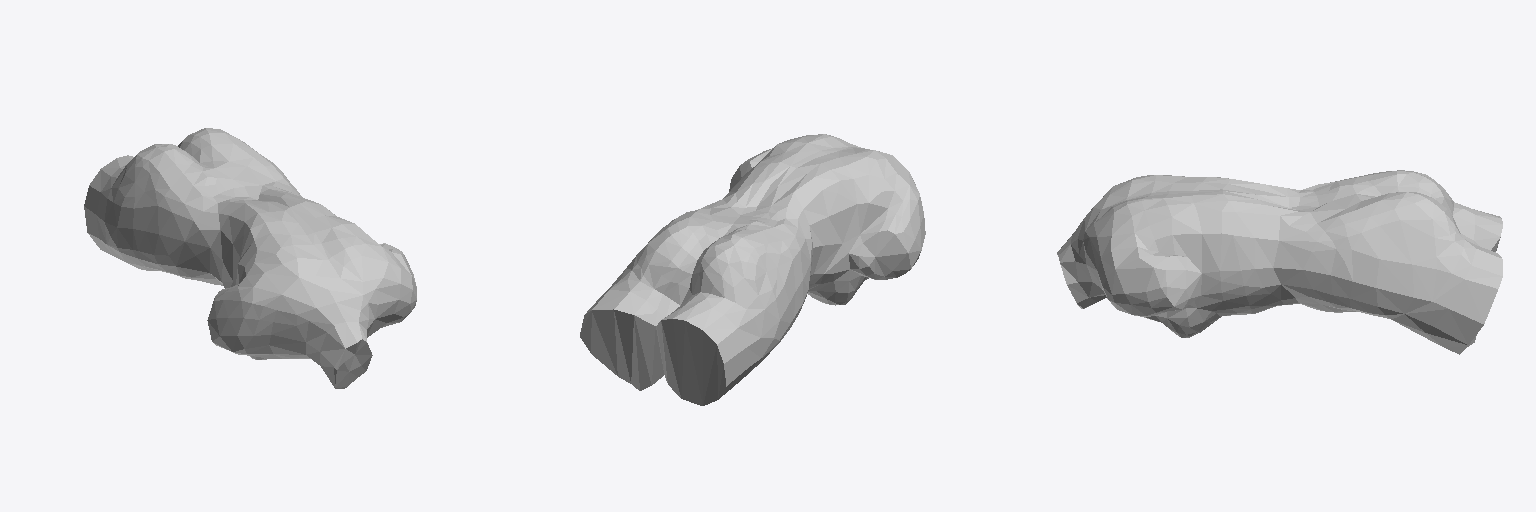
The model's file is tiny_venus.obj.
The picture shows the model from 3 angles: view 1: azimuth 30°, elevation 25°; view 2: azimuth 150°, elevation 25°; view 3: azimuth 270°, elevation 25°; orthographic projection.
Parts seen in each view (by area): view 1: TRIANGLES-0; view 2: TRIANGLES-0; view 3: TRIANGLES-0.
Part boxes in pixels (bbox=[...]): TRIANGLES-0: bbox=[84, 128, 416, 388]; TRIANGLES-0: bbox=[580, 134, 925, 405]; TRIANGLES-0: bbox=[1057, 170, 1502, 354].
Size of the model in its own units: 0.981 by 0.7124 by 2.